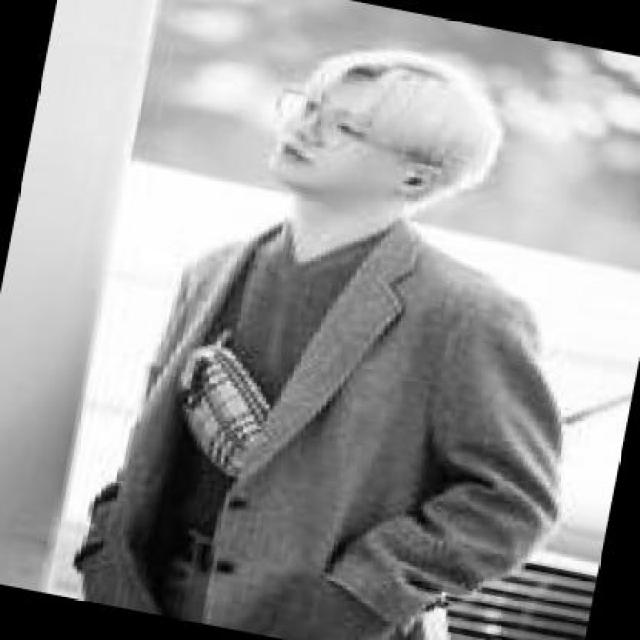earphone: (392, 162, 439, 201)
